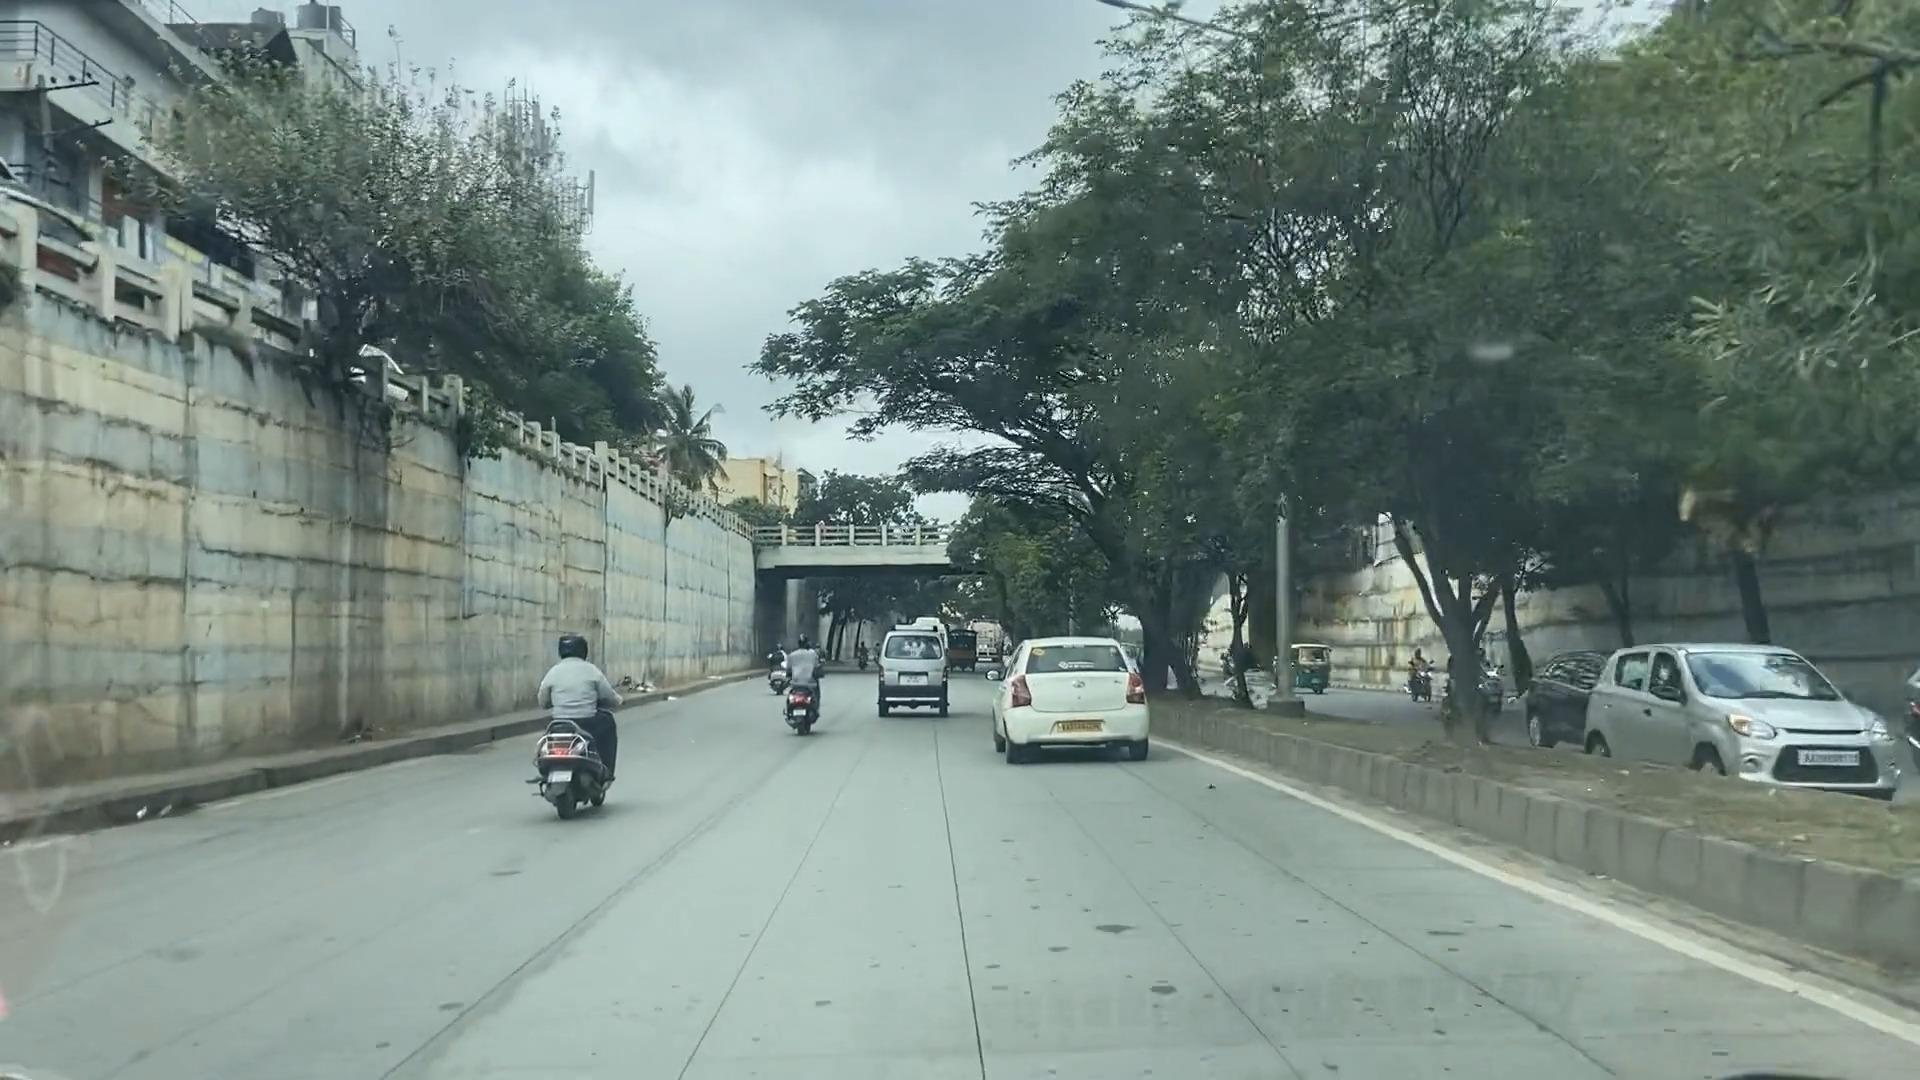LMV: (993, 618, 1158, 773), (535, 625, 624, 812)
